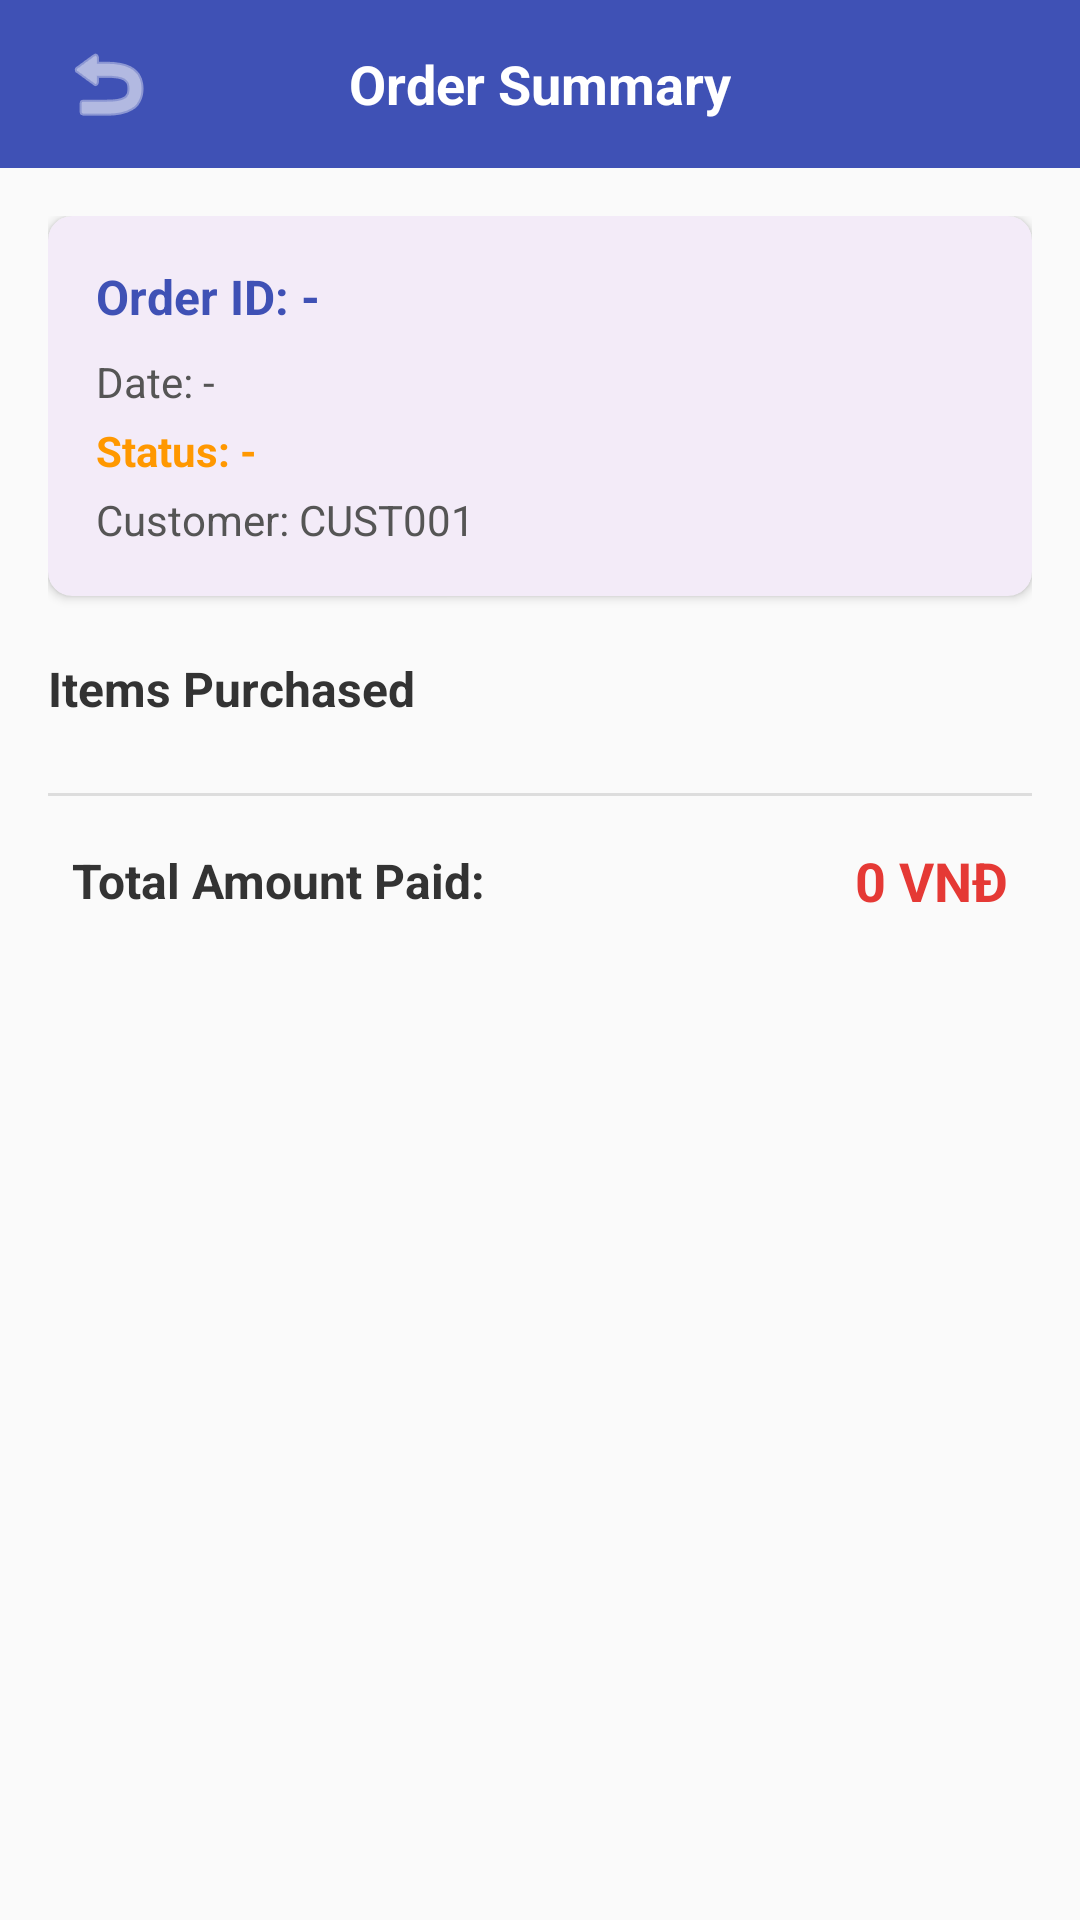

Icon click points for this 1080px×1920px phone screenshot, format (x,y):
Back: (109,84)
